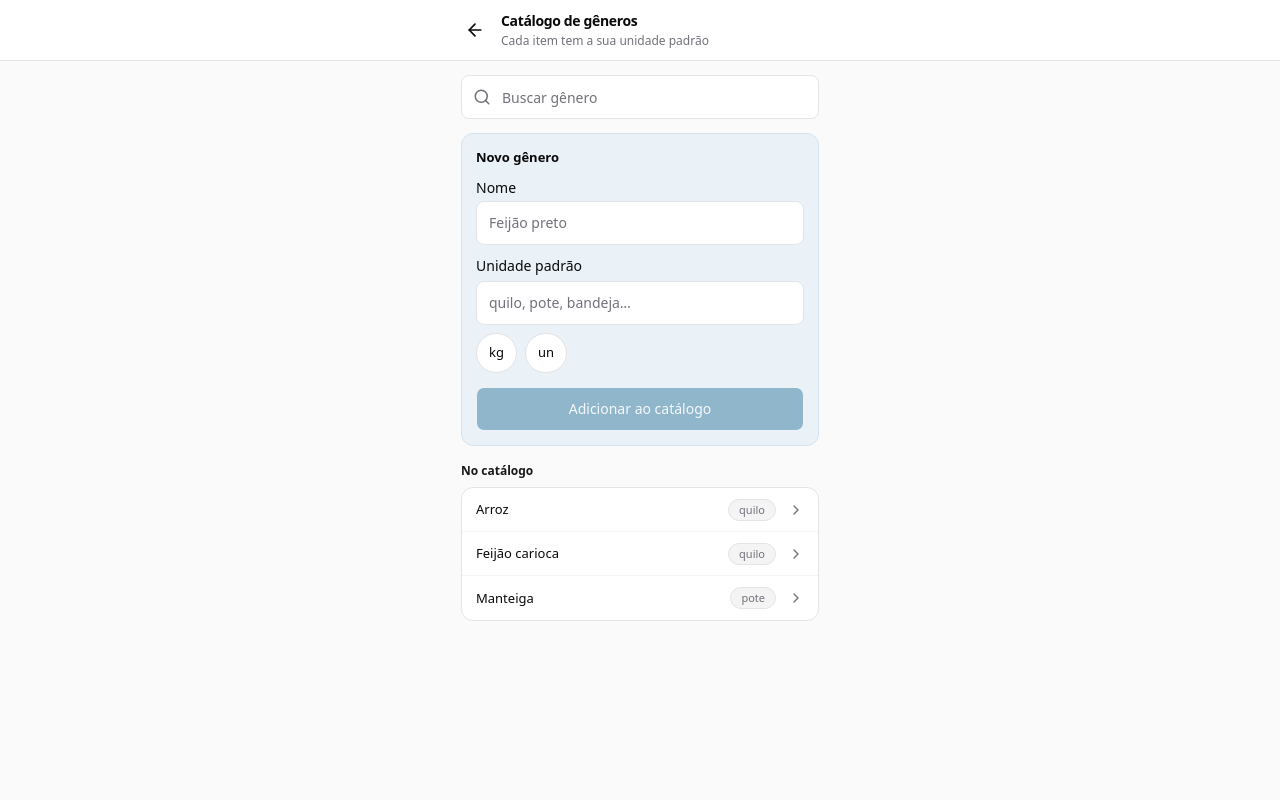
Test: editar um gênero › avisa que trocar a unidade alcança os dias já registrados
The width and height of the screenshot is (1280, 800).
Click the button with aria-label "Editar Manteiga" at (505, 598), box x1=462 y1=576 x2=818 y2=620
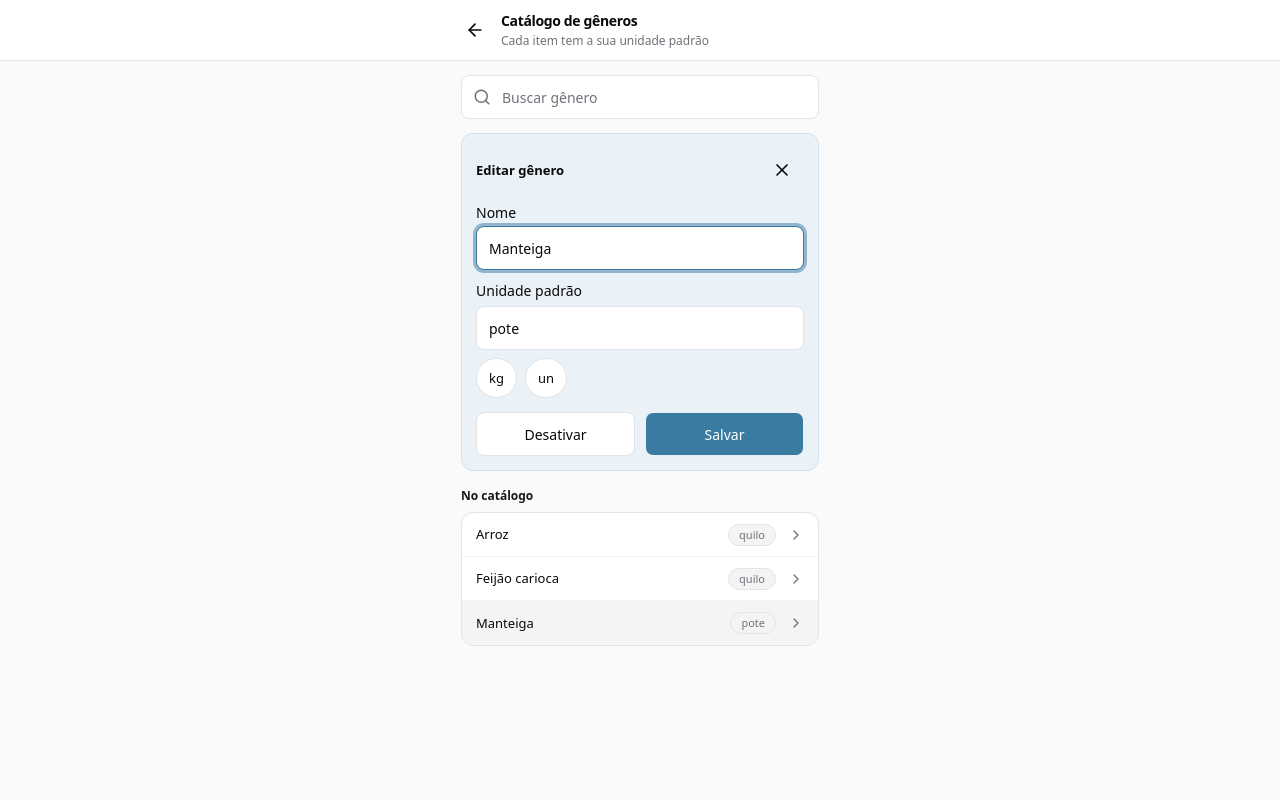
Expected: the text "Mudar a unidade muda também" is not shown
Replace the text in the field labelled "Unidade padrão" with "quilo" at (640, 328), box x1=476 y1=306 x2=804 y2=350
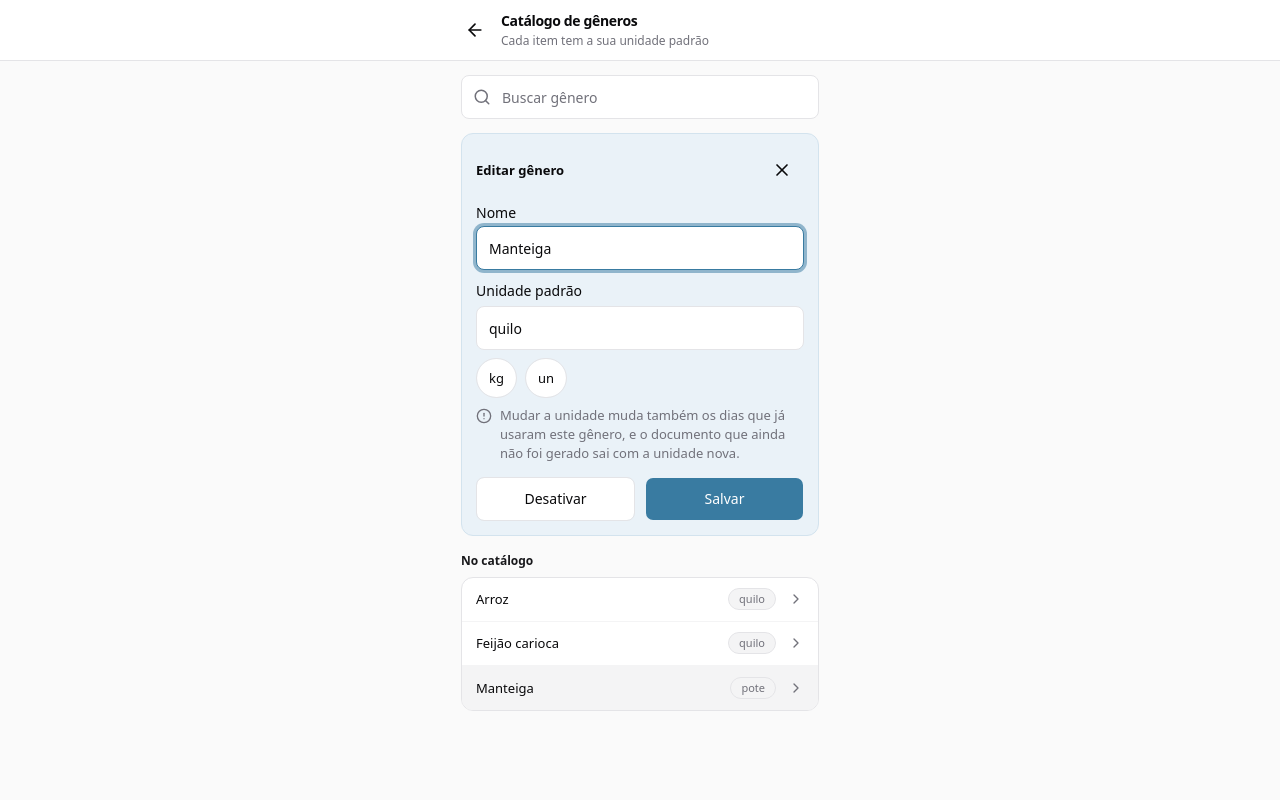
Now the text "Mudar a unidade muda também" is shown, box x1=500 y1=406 x2=785 y2=462
